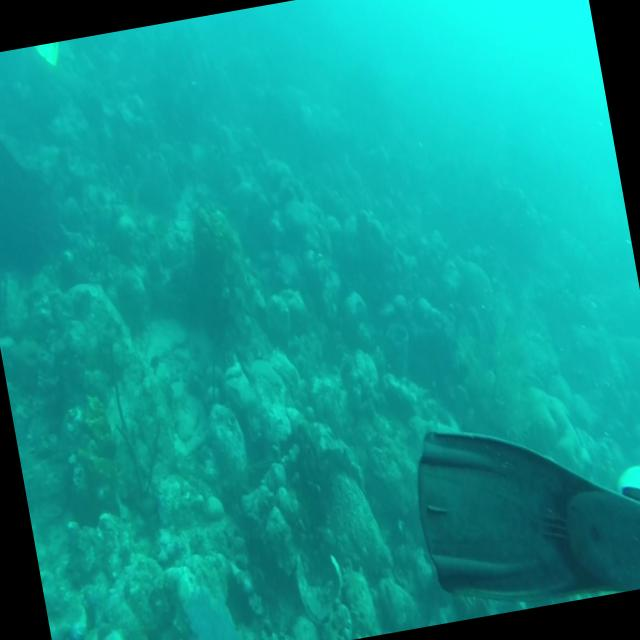human: (403, 387, 640, 624)
